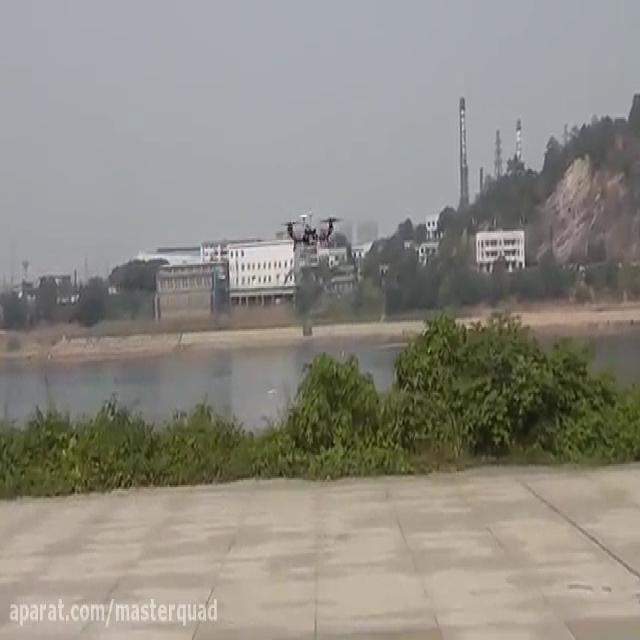drone: (277, 199, 346, 256)
